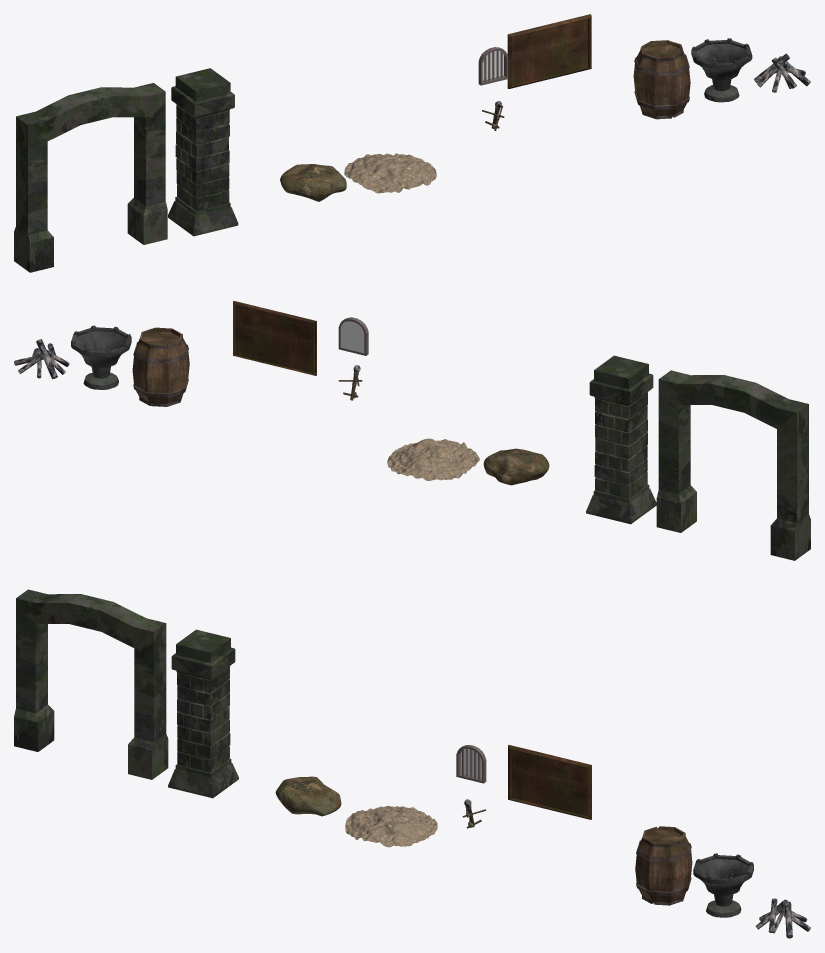
Rendered from DungeonObjects.fbx.
The picture shows the model from 3 angles, top to bottom: view 1: azimuth 30°, elevation 25°; view 2: azimuth 150°, elevation 25°; view 3: azimuth 330°, elevation 25°; orthographic projection.
Visible parts, largest first — view 1: arch, pillar, pictureFrame, puncheon, ground, flameStand, rock, background, bonfire; view 2: arch, pillar, pictureFrame, puncheon, ground, flameStand, rock, background, bonfire; view 3: arch, pillar, pictureFrame, puncheon, ground, flameStand, rock, background, bonfire.
Boxes of the visible parts, x1,y1,x2,y2 form: arch: (14,83,167,272); pillar: (168,68,238,236); pictureFrame: (507,14,591,88); puncheon: (633,40,690,119); ground: (344,153,436,193); flameStand: (691,38,752,102); rock: (280,164,346,201); background: (478,47,508,85); bonfire: (754,53,810,92); arch: (656,370,810,560); pillar: (586,355,656,524); pictureFrame: (233,301,316,375); puncheon: (132,327,189,406); ground: (387,438,479,480); flameStand: (71,325,131,389); rock: (483,448,549,485); background: (338,317,368,355); bonfire: (14,339,69,379); arch: (14,589,168,779); pillar: (168,629,238,798); pictureFrame: (508,745,591,819); puncheon: (635,826,692,905); ground: (345,805,437,847); flameStand: (693,853,753,917); rock: (275,776,341,816); background: (456,745,486,783); bonfire: (755,898,810,938).
Size of the model in its own units: 4833 by 918 by 485.
